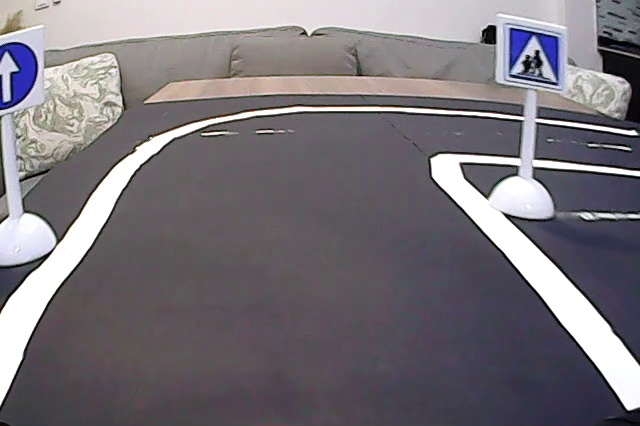school crossing: (503, 22, 563, 88)
